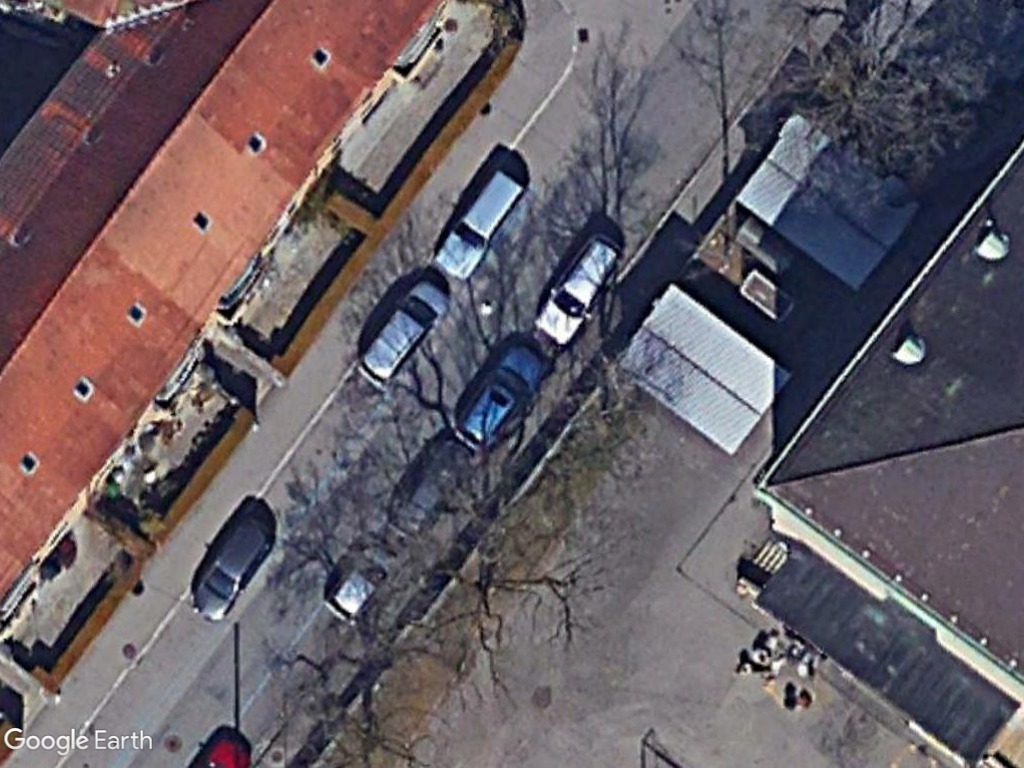car: (348, 277, 451, 391), (456, 336, 555, 453), (530, 231, 628, 346), (188, 507, 280, 626), (436, 166, 531, 280)
